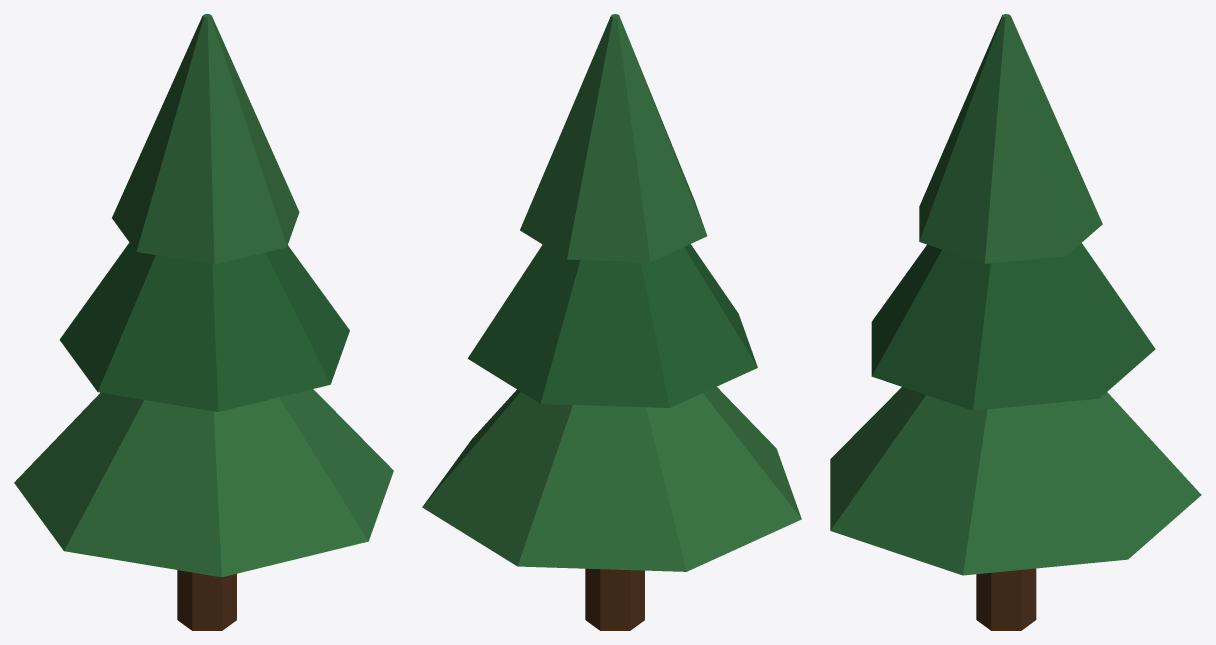
The model's file is drzewo_2.glb.
3 views of the same model, side by side, from view 1: azimuth 30°, elevation 25°; view 2: azimuth 150°, elevation 25°; view 3: azimuth 270°, elevation 25° (orthographic).
Parts seen in each view (by area): view 1: drzewo_2; view 2: drzewo_2; view 3: drzewo_2.
Boxes of the visible parts, x1,y1,x2,y2 form: drzewo_2: (14,14,393,630); drzewo_2: (422,14,801,630); drzewo_2: (830,14,1201,630).
Bounding box in the file's own units: 1.66 × 2.9 × 1.62.
